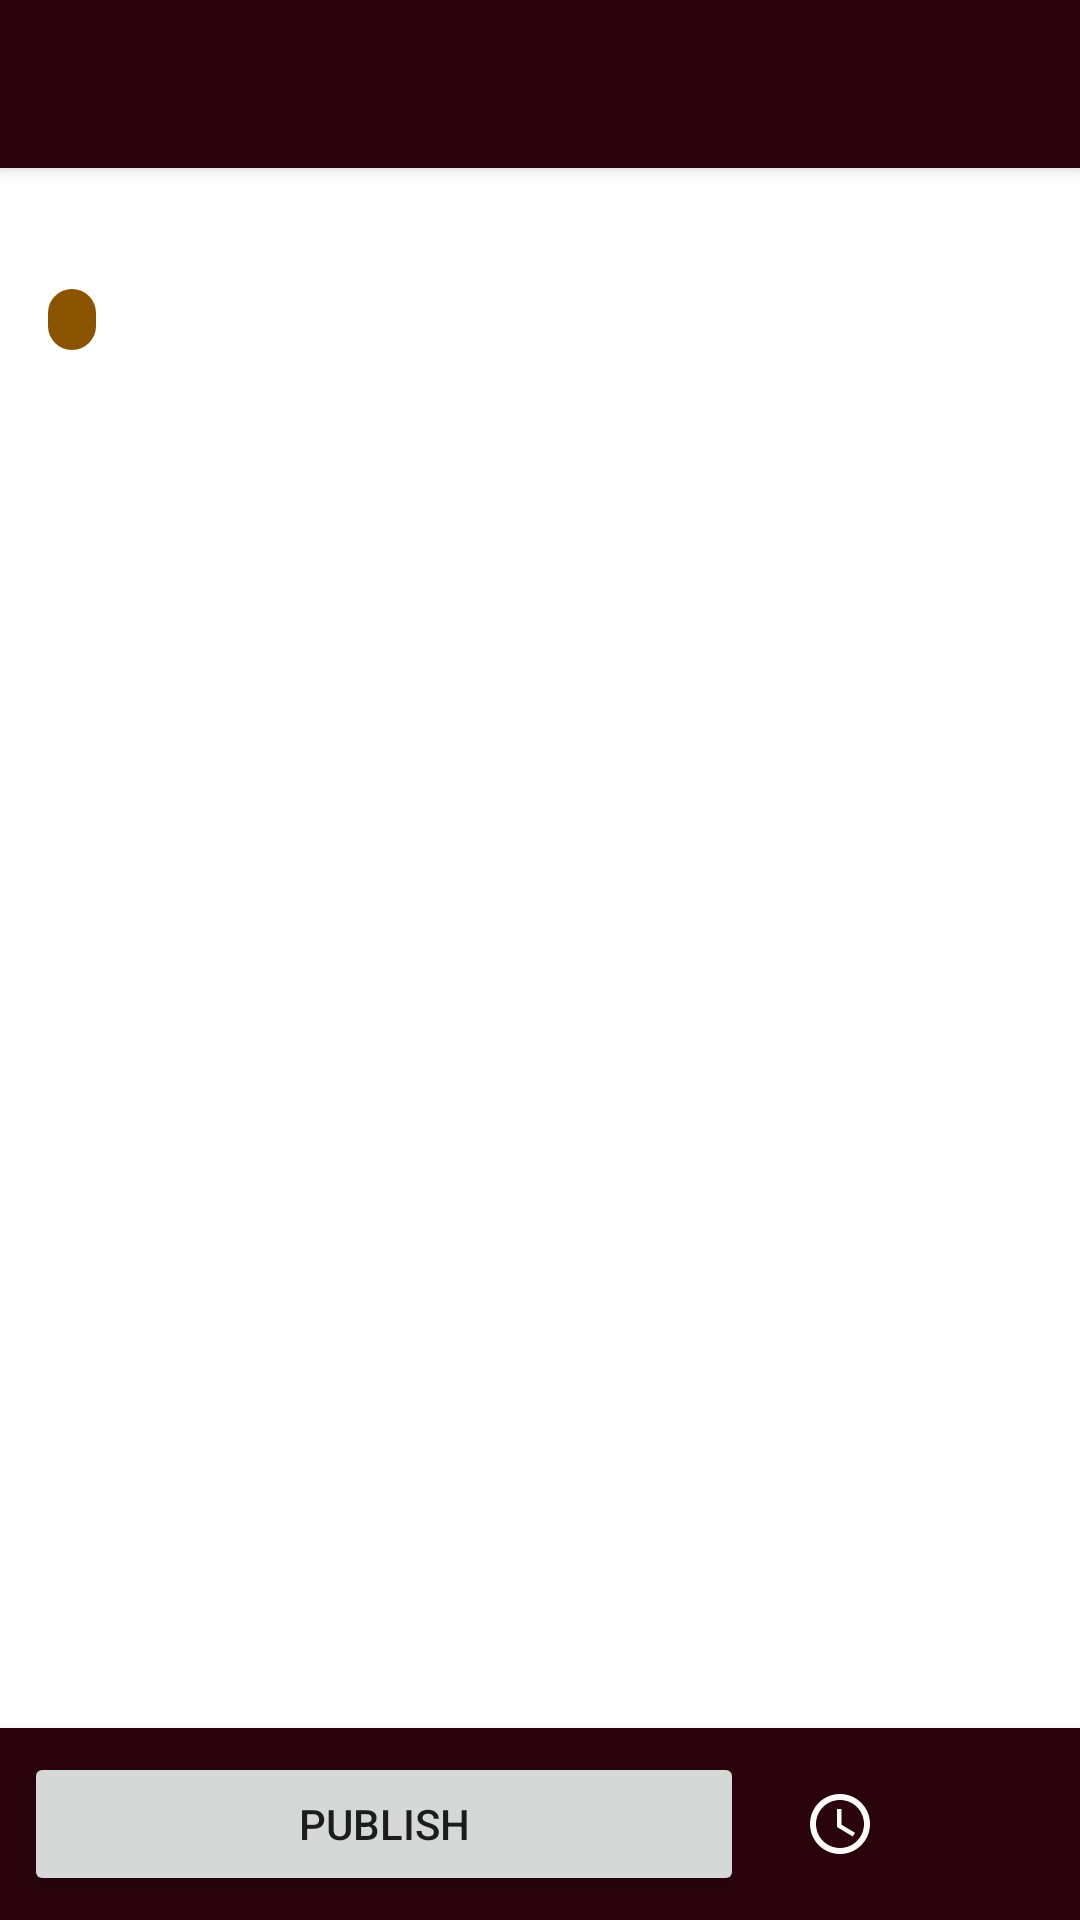

Named icons in this screenshot (1080×1920) and their centers, (x=x, y=y):
Schedule: (x=840, y=1824)
